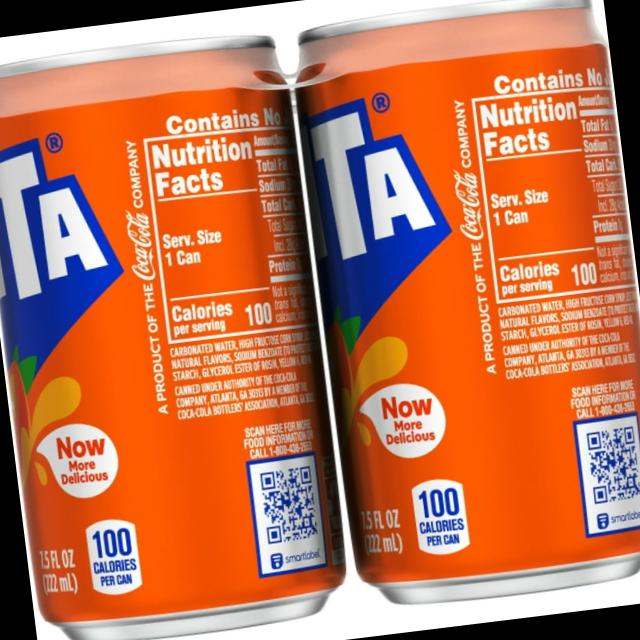fanta: (283, 0, 640, 617), (0, 31, 354, 640)
